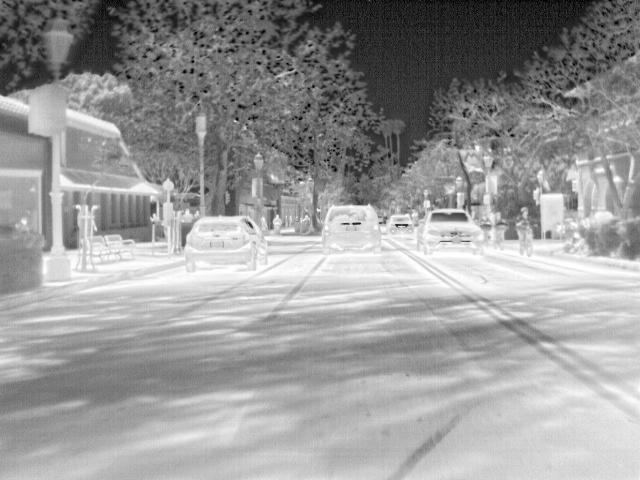car: (185, 216, 270, 270), (416, 206, 481, 254), (320, 201, 381, 250), (387, 211, 414, 235)
person: (491, 207, 509, 234), (518, 207, 533, 234), (271, 213, 285, 232)
